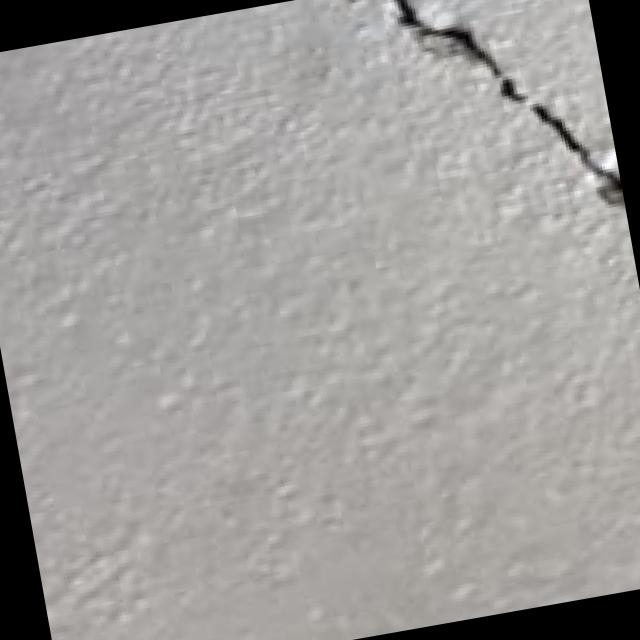crack: (362, 0, 622, 265)
